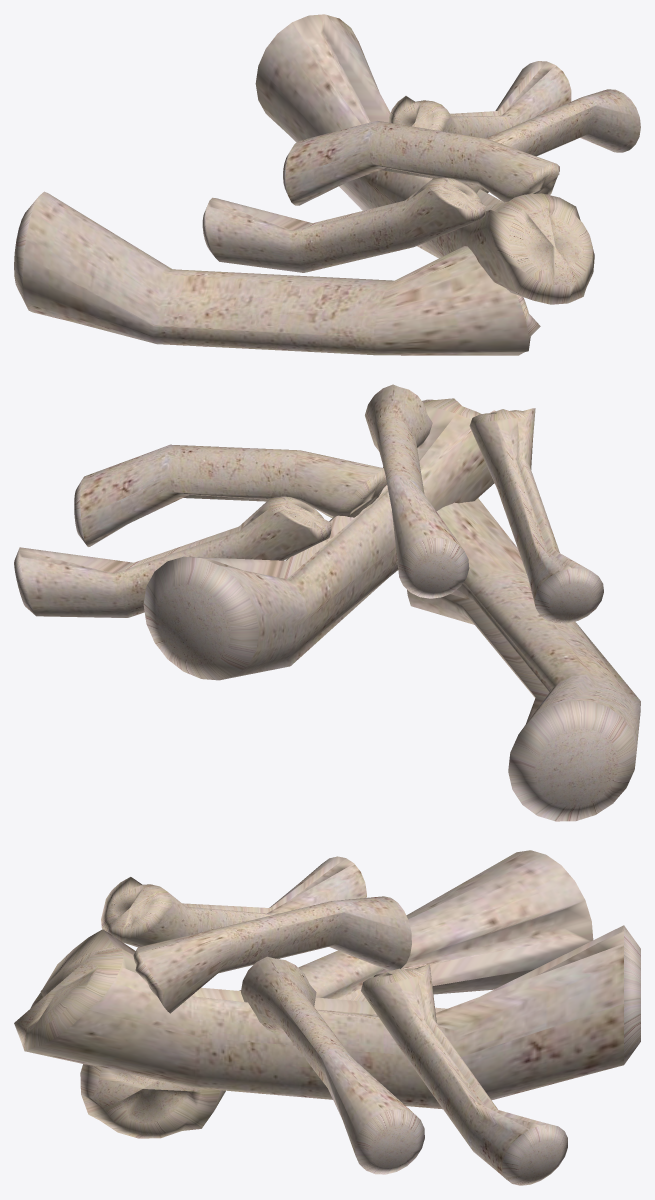
The model's file is bone_pile.fbx.
3 renders of one model, top to bottom at view 1: azimuth 30°, elevation 25°; view 2: azimuth 150°, elevation 25°; view 3: azimuth 270°, elevation 25°, orthographic. The views are drawn at different scales.
Parts seen in each view (by area): view 1: polySurface5; view 2: polySurface5; view 3: polySurface5.
Boxes of the visible parts, x1=… form: polySurface5: x1=14, y1=14, x2=640, y2=355; polySurface5: x1=14, y1=384, x2=640, y2=821; polySurface5: x1=14, y1=850, x2=640, y2=1185.
Size of the model in its own units: 10.62 by 3.53 by 8.88.
1 material, 1 textured.
